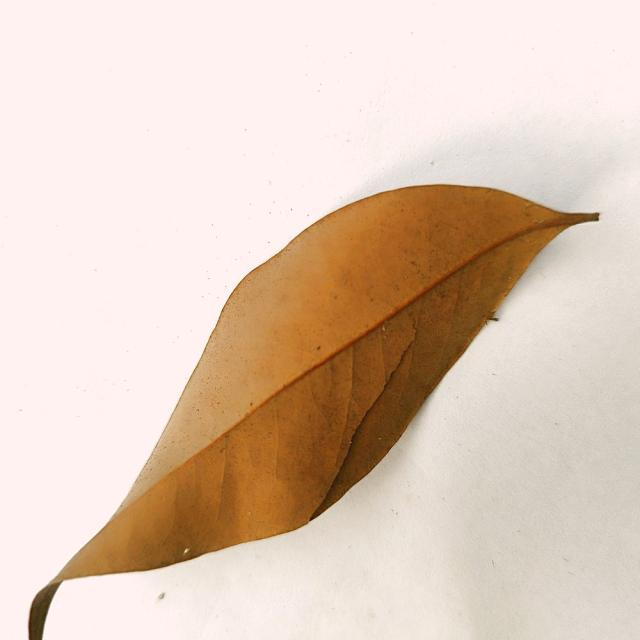Dry_Leaf-Lychee: (28, 184, 600, 639)
